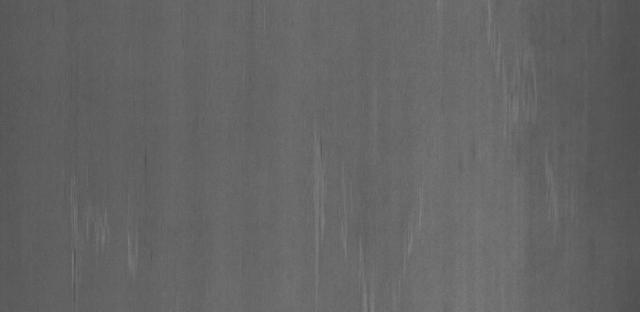silk_spot: (291, 111, 398, 269), (448, 36, 560, 130)
